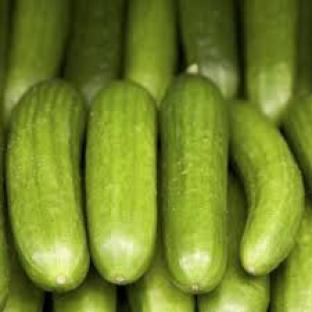Cucumber: (6, 81, 88, 291), (160, 75, 228, 293), (86, 81, 156, 284), (231, 102, 303, 274), (199, 175, 270, 311), (128, 231, 195, 311), (271, 200, 311, 311), (2, 242, 44, 311), (283, 95, 311, 192), (53, 268, 116, 311), (0, 118, 9, 310), (117, 288, 131, 311)
